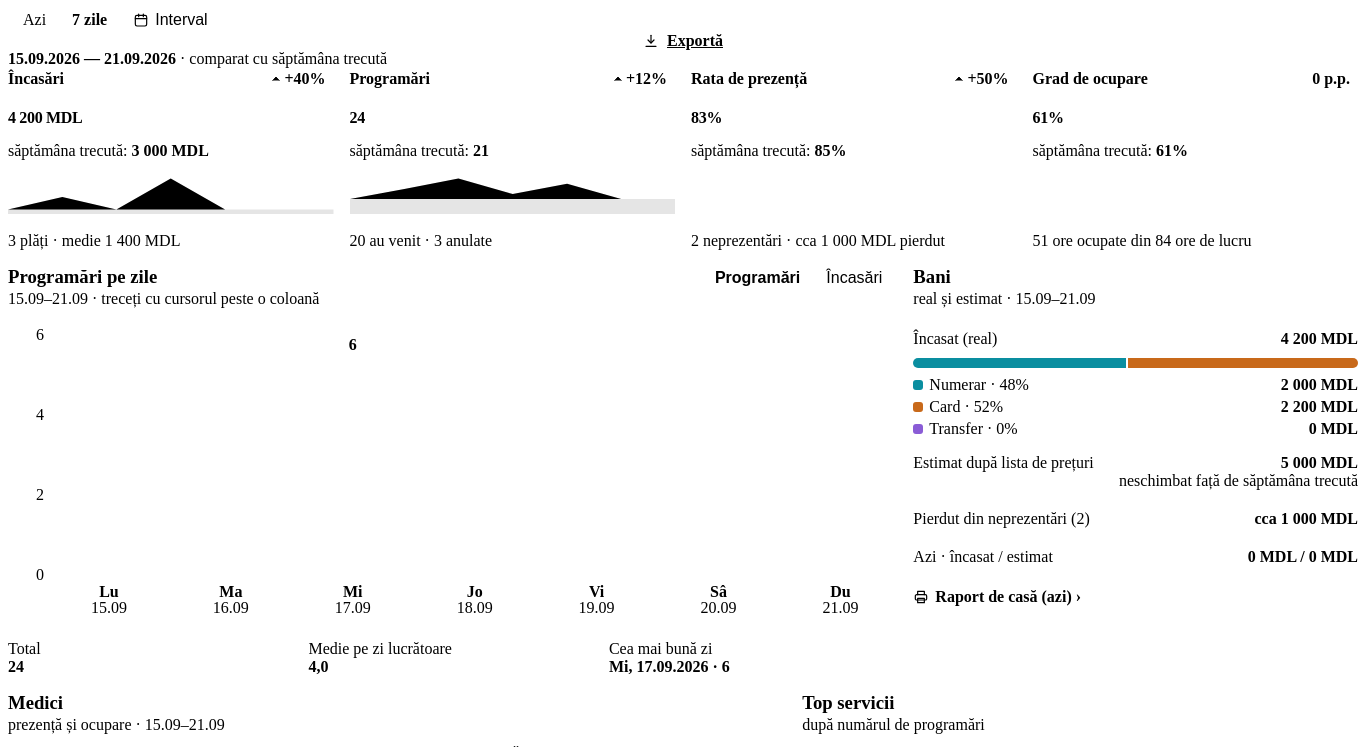
Scenario: StatsScreen › график: подсказка показывает значение, «Încasări» — деньгами сервера
Check: the heading "Programări pe zile" is shown, box x1=8 y1=266 x2=157 y2=287
Check: the text "Mi, 17.09.2026 · 6" is shown, box x1=609 y1=658 x2=730 y2=675
What coordinates should you click on to do the following:
click the button "Încasări"
I would click on:
 (854, 278)
Its box is x1=814 y1=269 x2=894 y2=287.
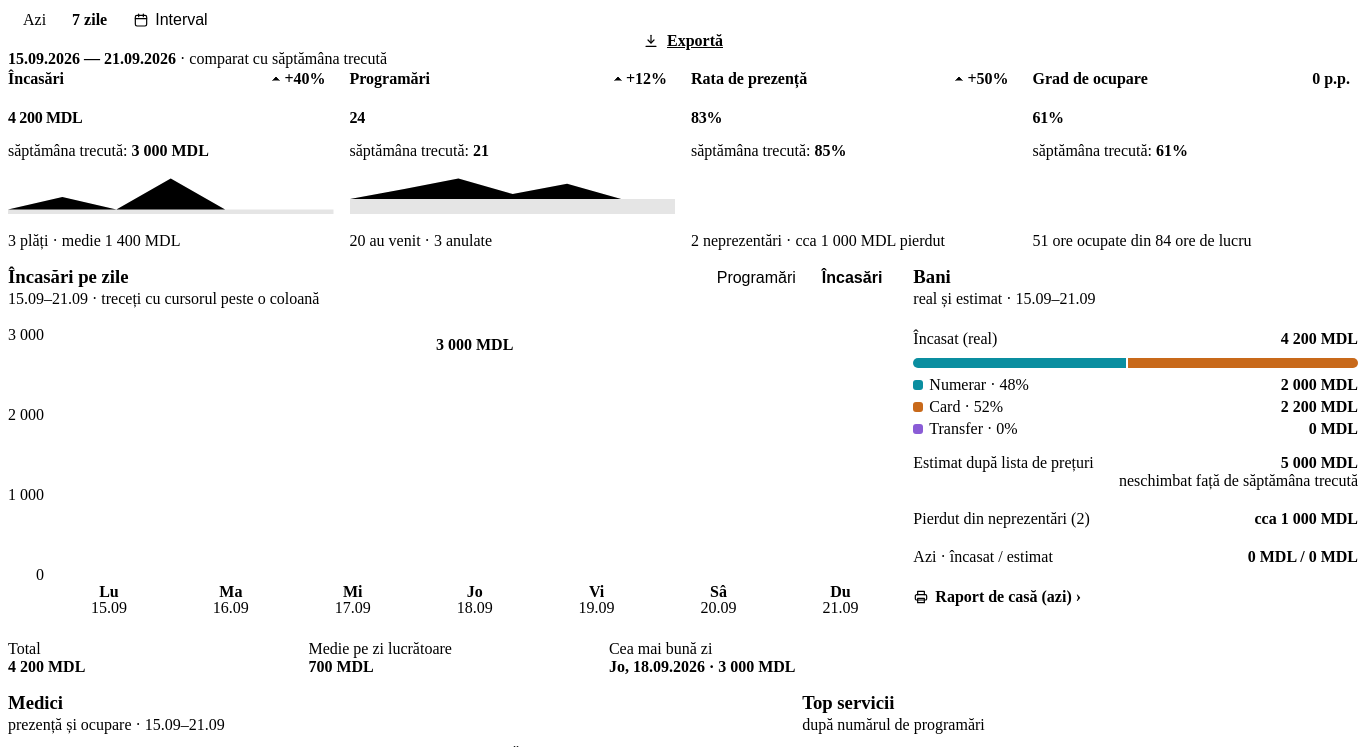
Check: the heading "Încasări pe zile" is shown, box x1=8 y1=266 x2=128 y2=287
Check: the text with class "stx-top" reads "3 000 MDL", box x1=436 y1=336 x2=513 y2=353
Check: the text "Jo, 18.09.2026 · 3 000 MDL" is shown, box x1=609 y1=658 x2=796 y2=675
